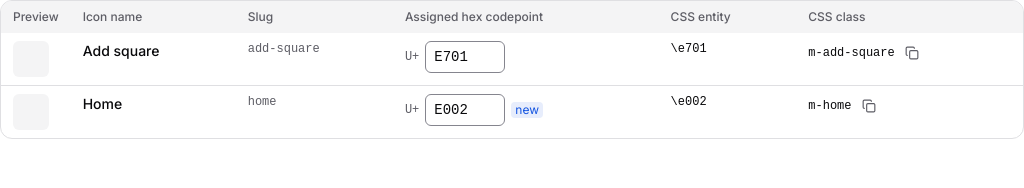
Scenario: changing a character › refuses values outside E000 to F8FF or with the wrong length, without asking the server
Replace the text in the field named "Codepoint for Home" with "0041": [465, 110] box [425,94,505,126]
Then press Enter
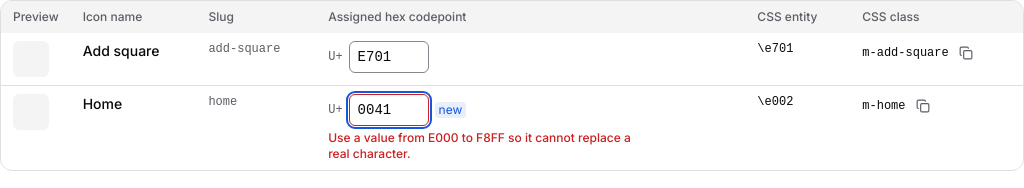
expect the message shows "E000 to F8FF": met, box [328,130,631,161]
Clear the field named "Codepoint for Home": [389, 110] box [349,94,429,126]
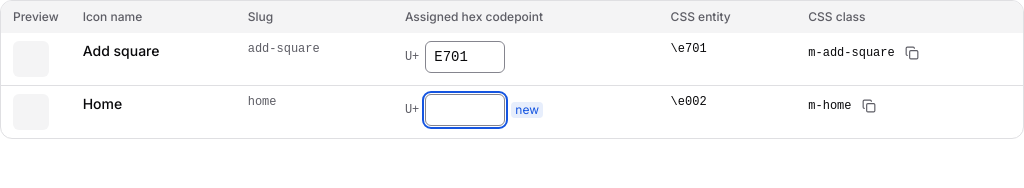
In the field named "Codepoint for Home": [465, 110] box [425,94,505,126], type "E8"
Then press Enter
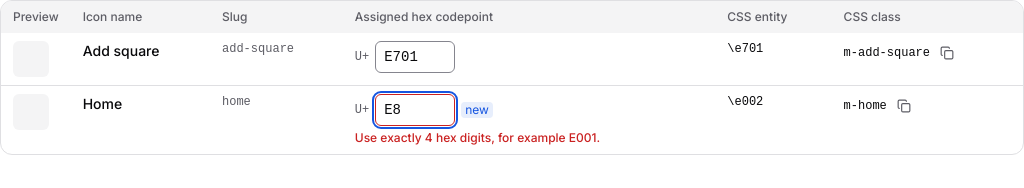
expect the message shows "exactly 4 hex digits": met, box [355,130,600,145]
